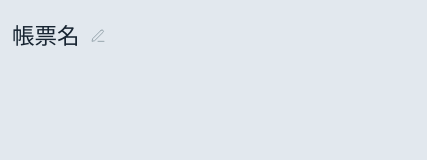
Scenario: edits the heading inline and saves with Enter
Click the button named "テンプレート名を変更".
click(98, 36)  # box [84, 17, 112, 55]
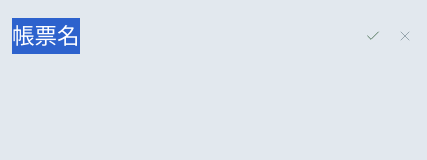
Replace the text in the field named "テンプレート名" with " 新しい帳票名 " at (184, 36), box [12, 18, 355, 54]
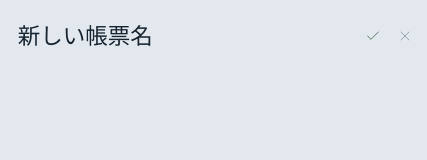
Press Enter in the field named "テンプレート名", box [12, 18, 355, 54]
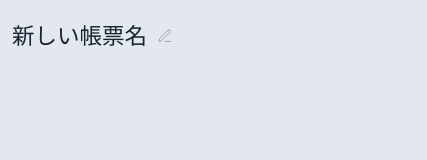
Now the heading "新しい帳票名" is shown, box [12, 18, 147, 54]
Now the field labelled "テンプレート名" is gone
